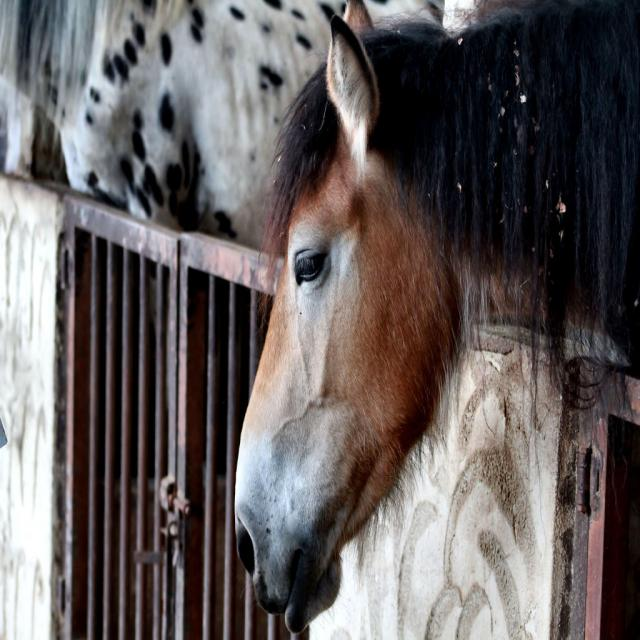Horse: (231, 0, 639, 639)
